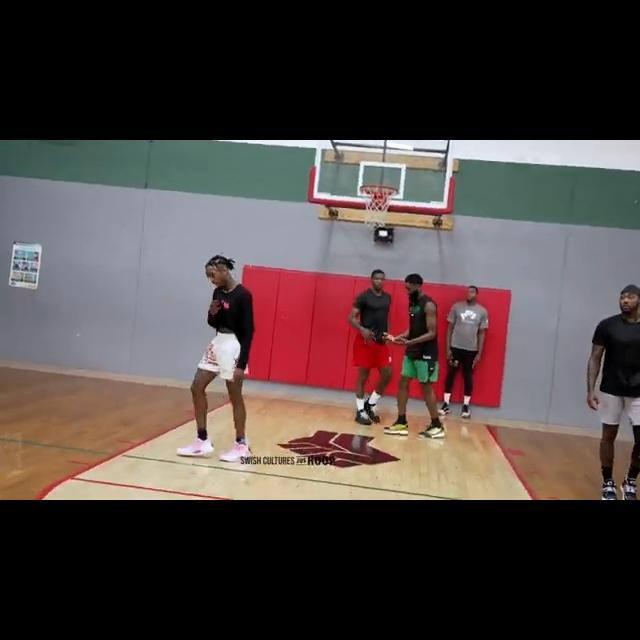hoop: (359, 185, 397, 230)
person: (180, 255, 255, 463), (586, 282, 640, 500), (384, 273, 448, 443), (348, 268, 393, 428), (438, 282, 489, 422)
